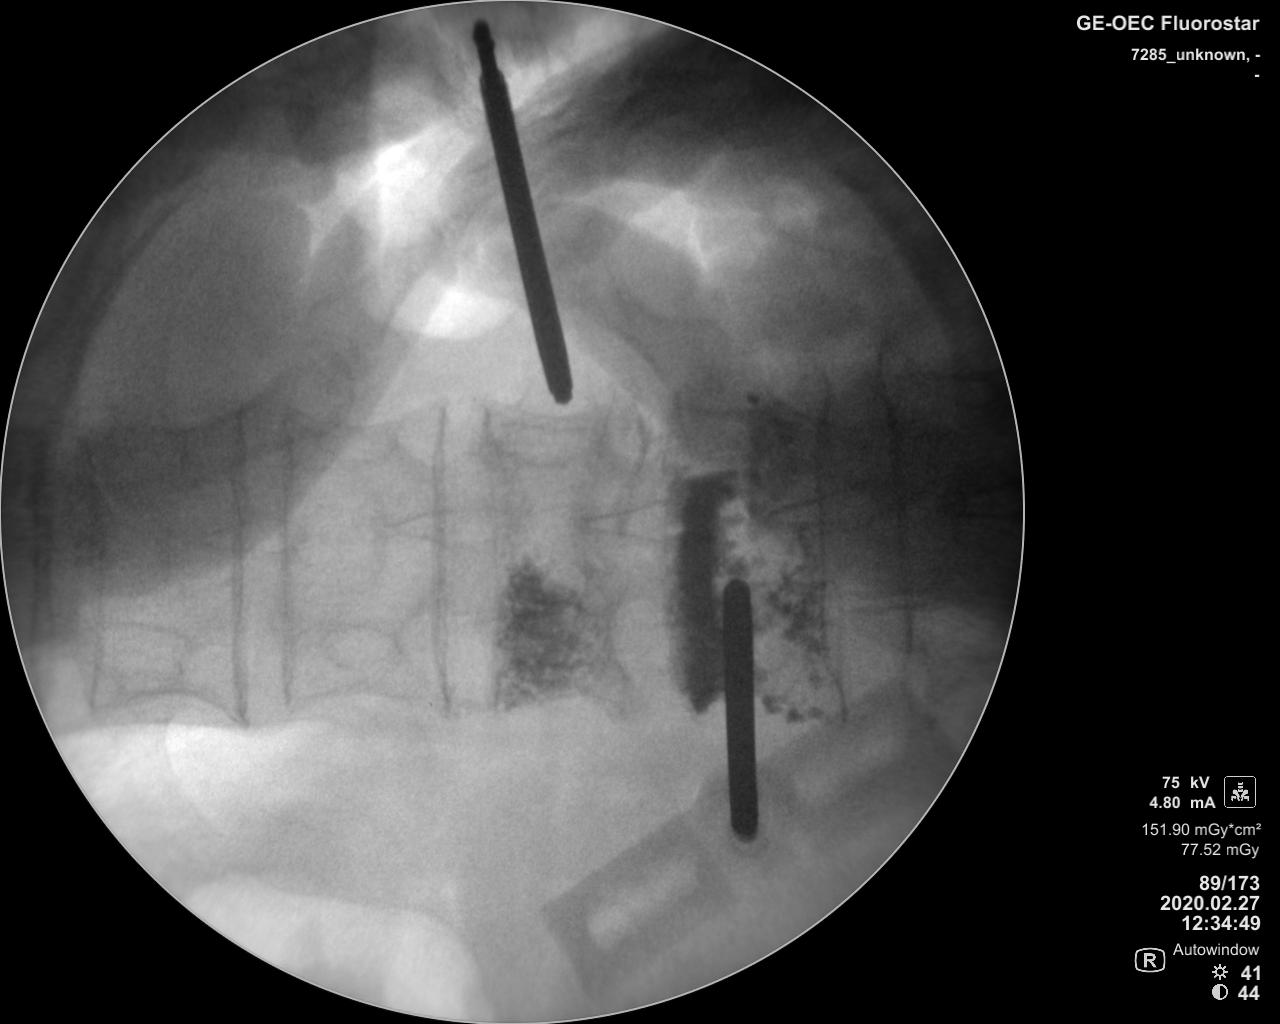eyes: (495, 408, 600, 470), (320, 621, 406, 678), (112, 626, 193, 680), (313, 417, 398, 463)
line: (812, 366, 853, 726), (877, 354, 921, 670), (430, 398, 458, 722), (229, 415, 253, 734), (82, 432, 108, 719), (29, 430, 59, 677), (277, 411, 298, 719)
nose: (754, 480, 897, 533), (379, 502, 521, 548), (195, 515, 307, 557), (574, 503, 685, 544), (938, 486, 1025, 527)
